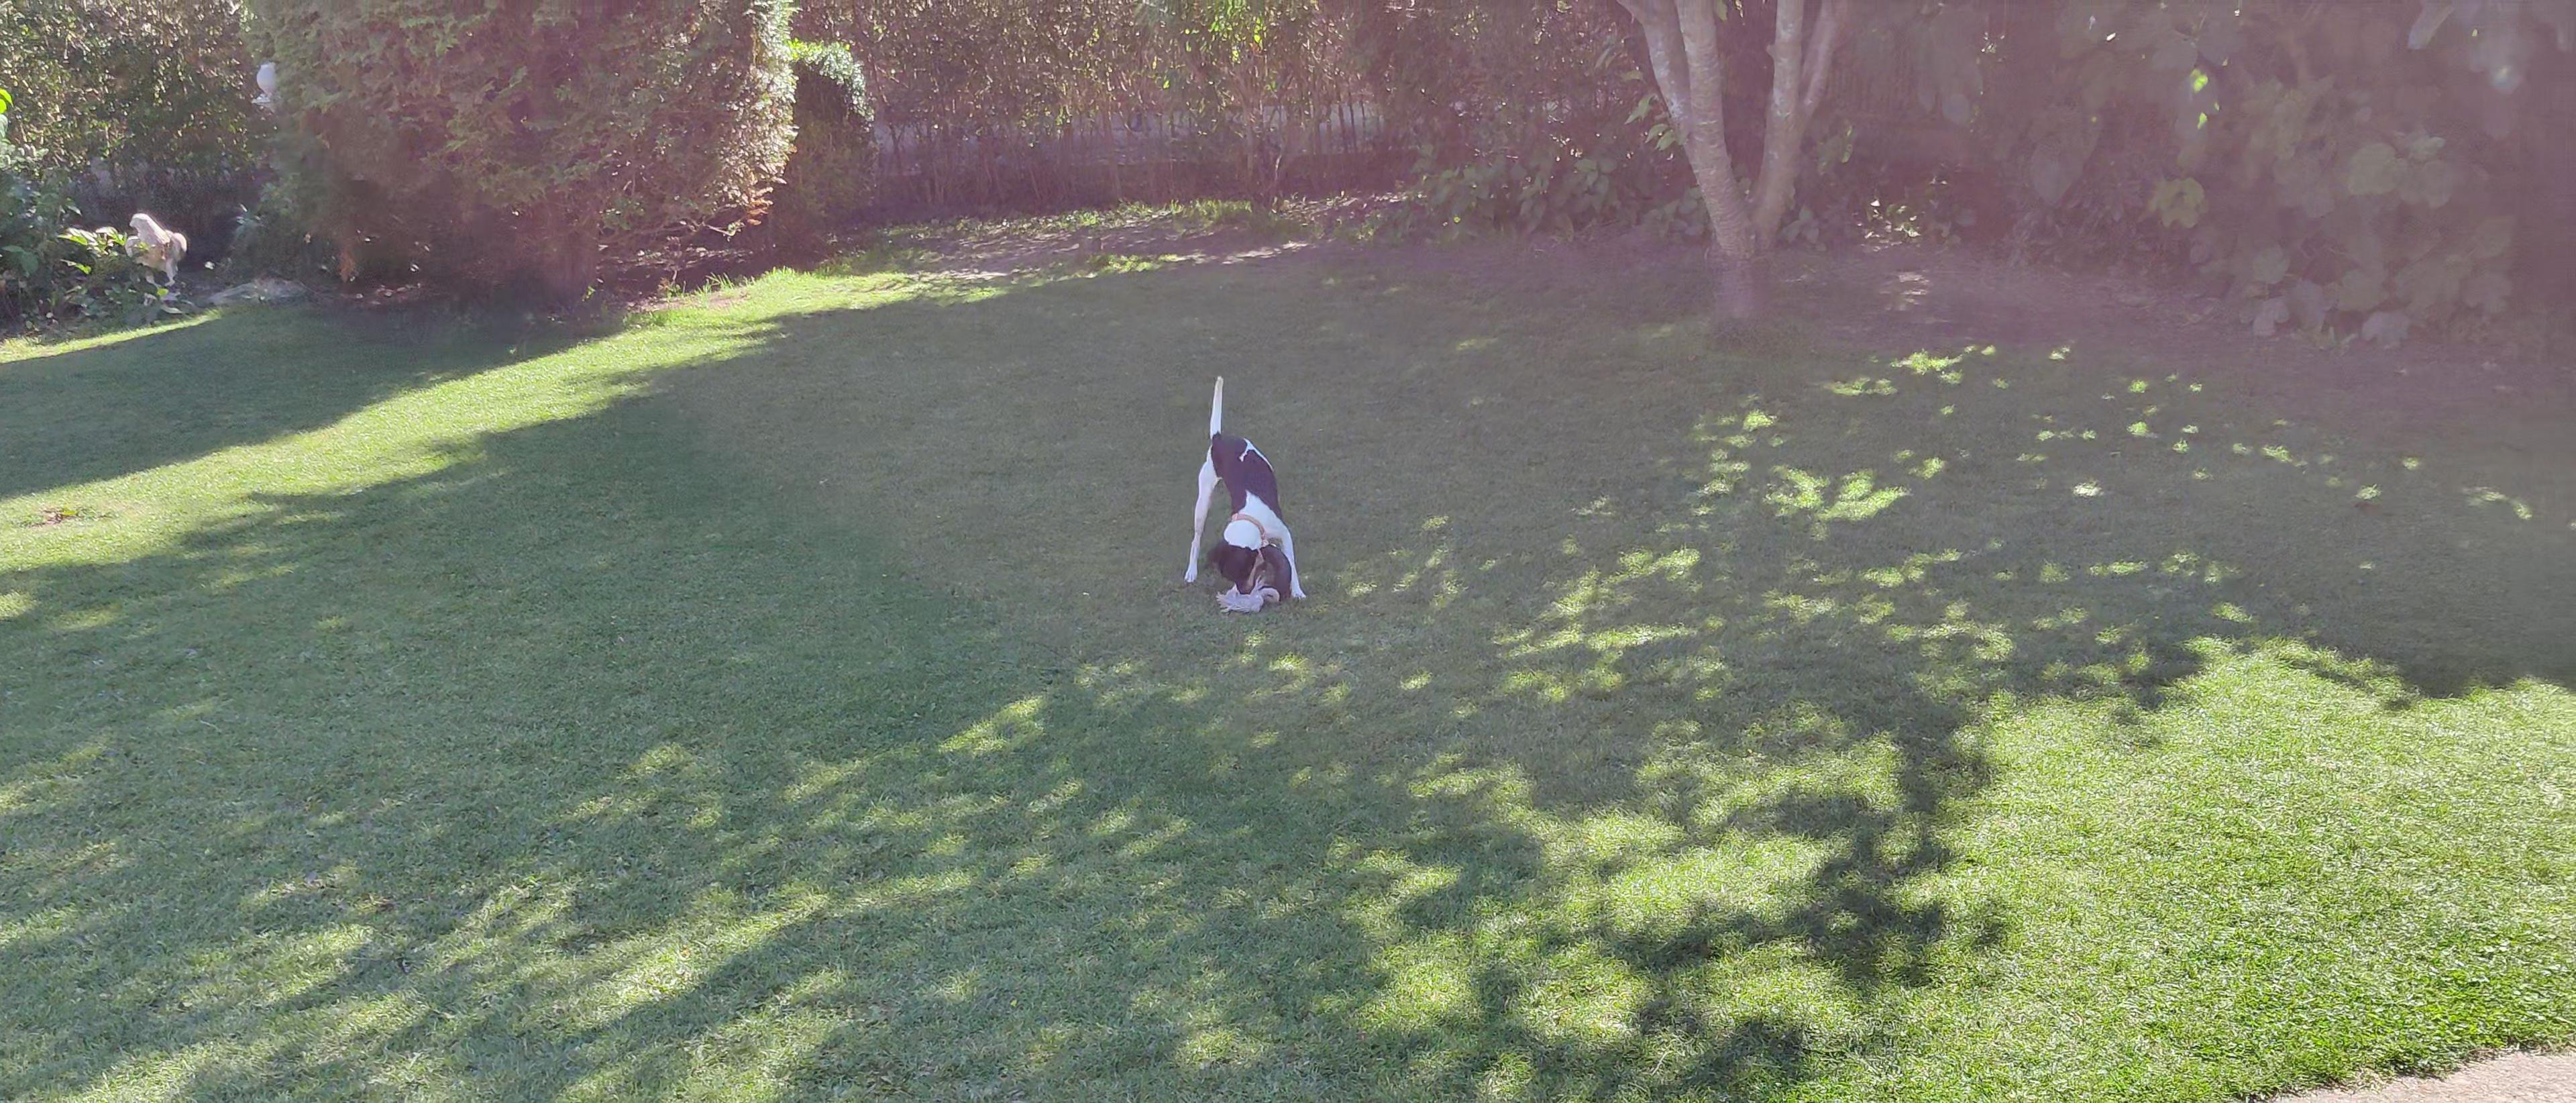Dog: (1178, 376, 1309, 603)
